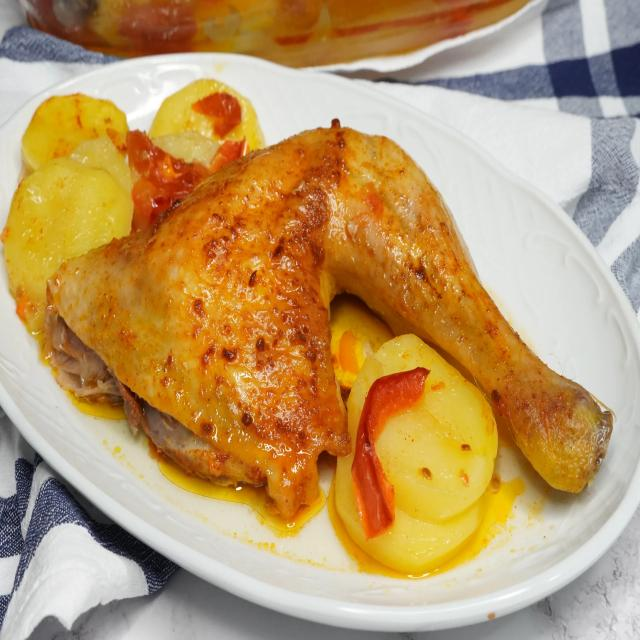pollo: (49, 121, 618, 516)
